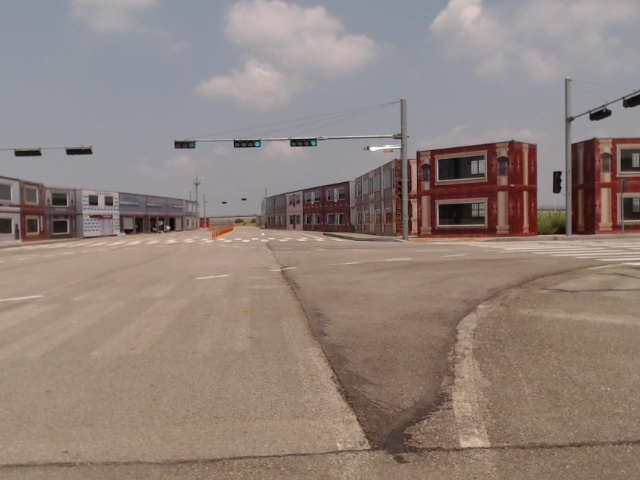straight_green_4: (290, 138, 319, 147), (234, 140, 262, 147)
